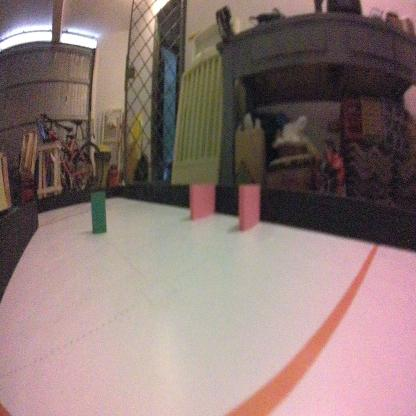green: (88, 186, 107, 238)
magenta: (188, 180, 215, 221), (238, 182, 260, 230)
